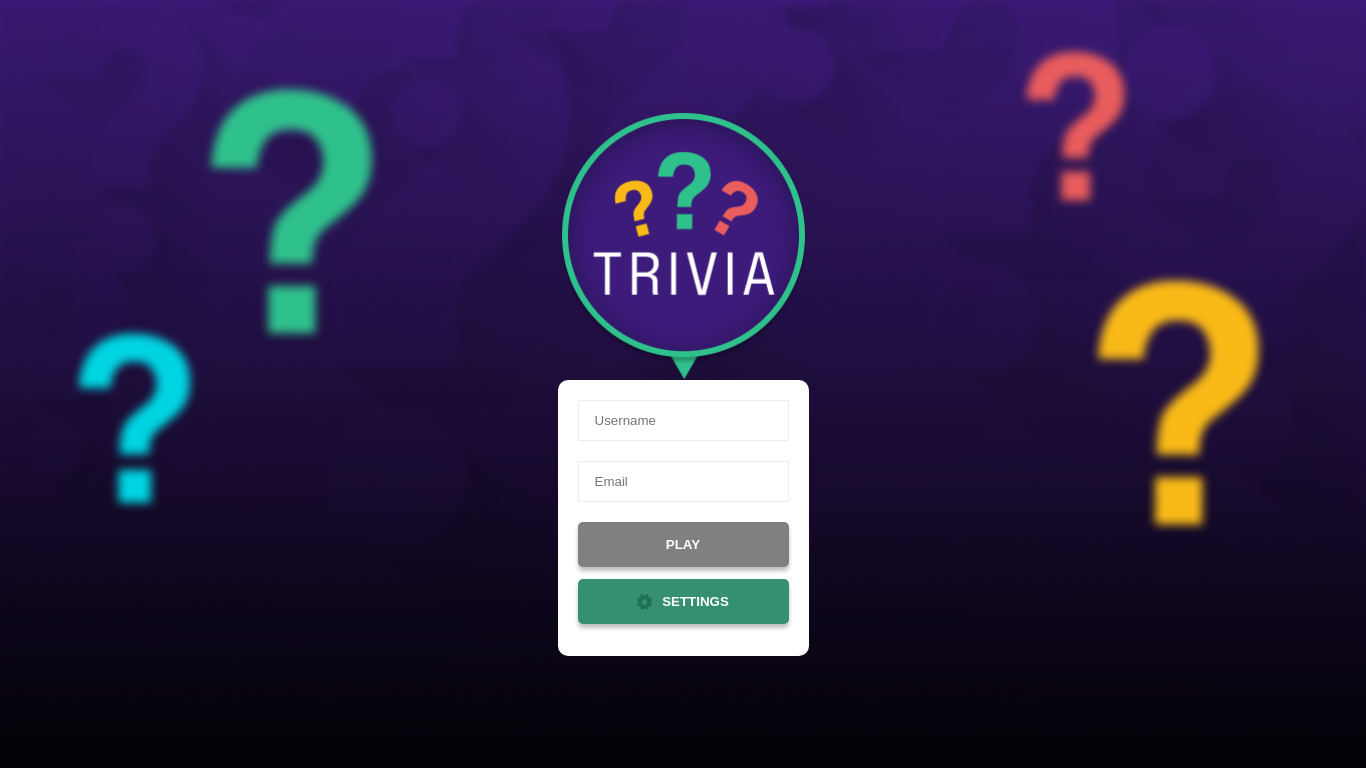
Test case: Tests for the Login.js file › Check if the play button is enabled when the email input is valid
expect the button with test id "btn-play" is disabled: met, box [578,522,788,567]
Type "correctName" into the field with test id "input-player-name" at (683, 420), box [578,400,788,441]
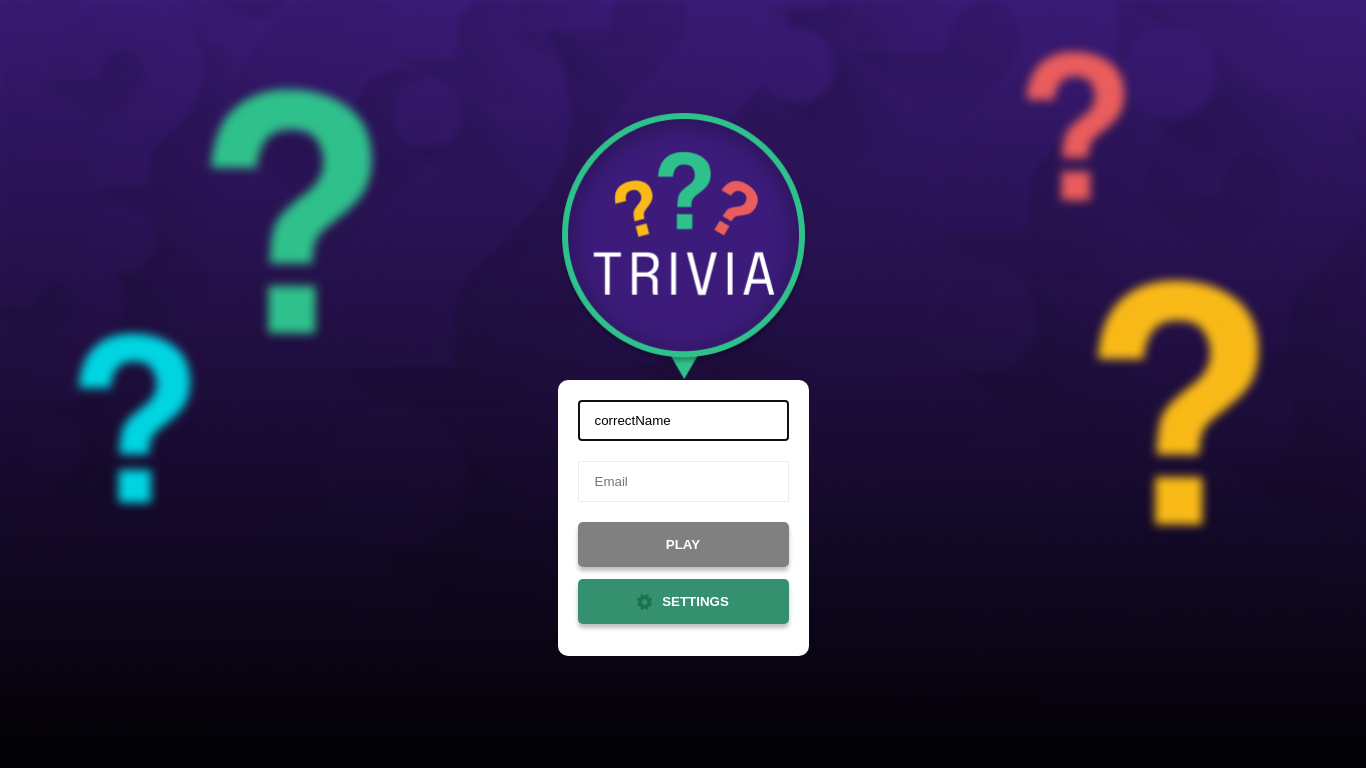
Type "correctEmail@gmail.com" into the field with test id "input-gravatar-email" at (683, 482), box [578,461,788,502]
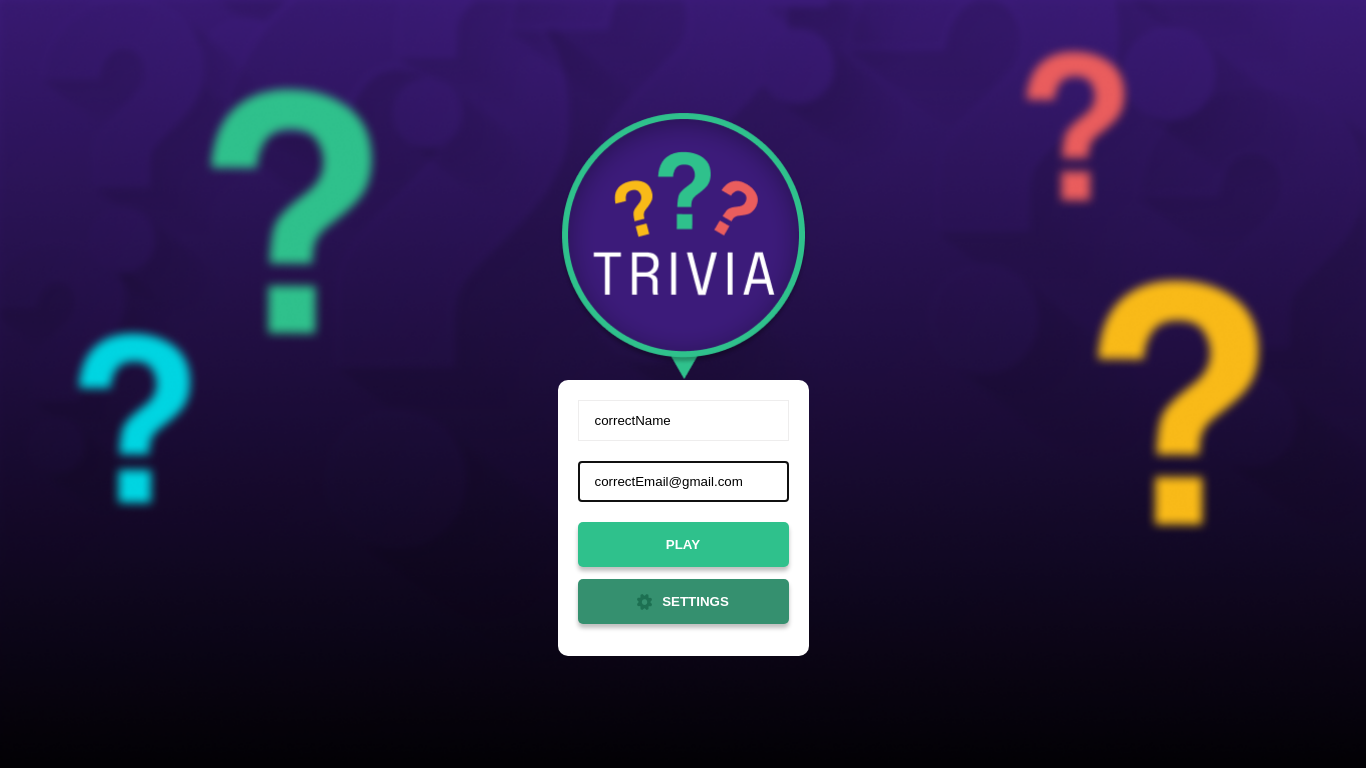
expect the button with test id "btn-play" is enabled: met, box [578,522,788,567]
